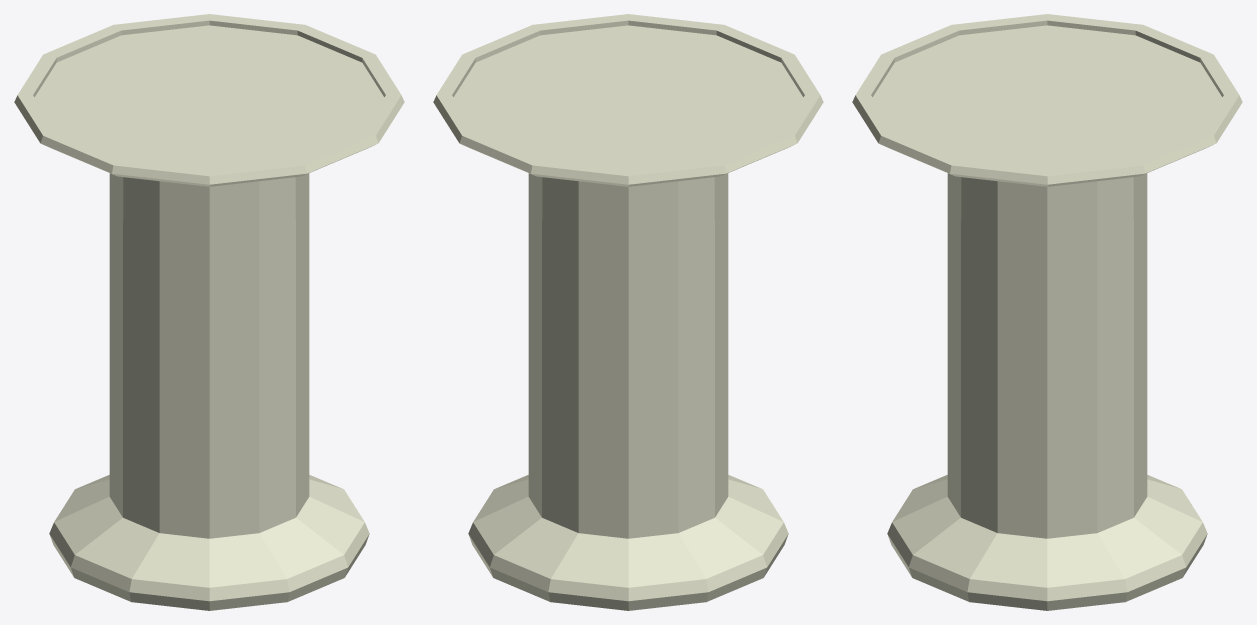
Rendered from Pedestal.fbx.
The picture shows the model from 3 angles, left to right: view 1: azimuth 30°, elevation 25°; view 2: azimuth 150°, elevation 25°; view 3: azimuth 270°, elevation 25°; orthographic projection.
Parts seen in each view (by area): view 1: Cylinder; view 2: Cylinder; view 3: Cylinder.
Part boxes in pixels (bbox=[...]): Cylinder: bbox=[14, 14, 404, 610]; Cylinder: bbox=[433, 14, 823, 610]; Cylinder: bbox=[852, 14, 1242, 610].
Bounding box in the file's own units: 84.74 × 108 × 84.74.
